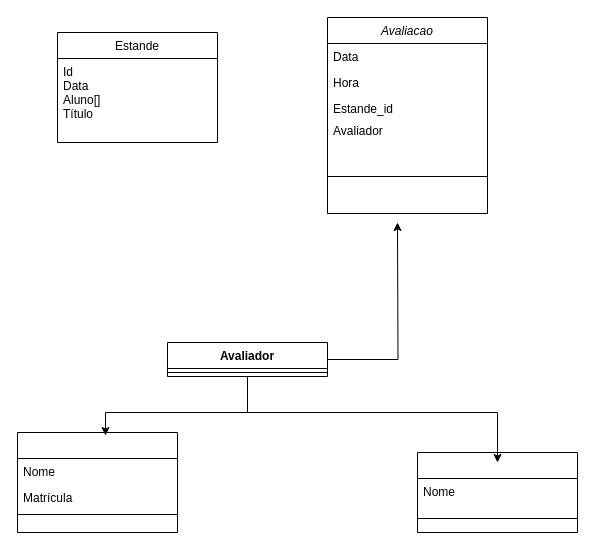
Some shapes in this 595 by 550 pixel diagram are drawn without their labels. Each missing label, with the box of its shape:
Aluno: (16, 432, 178, 532)
Professor: (416, 452, 578, 532)
